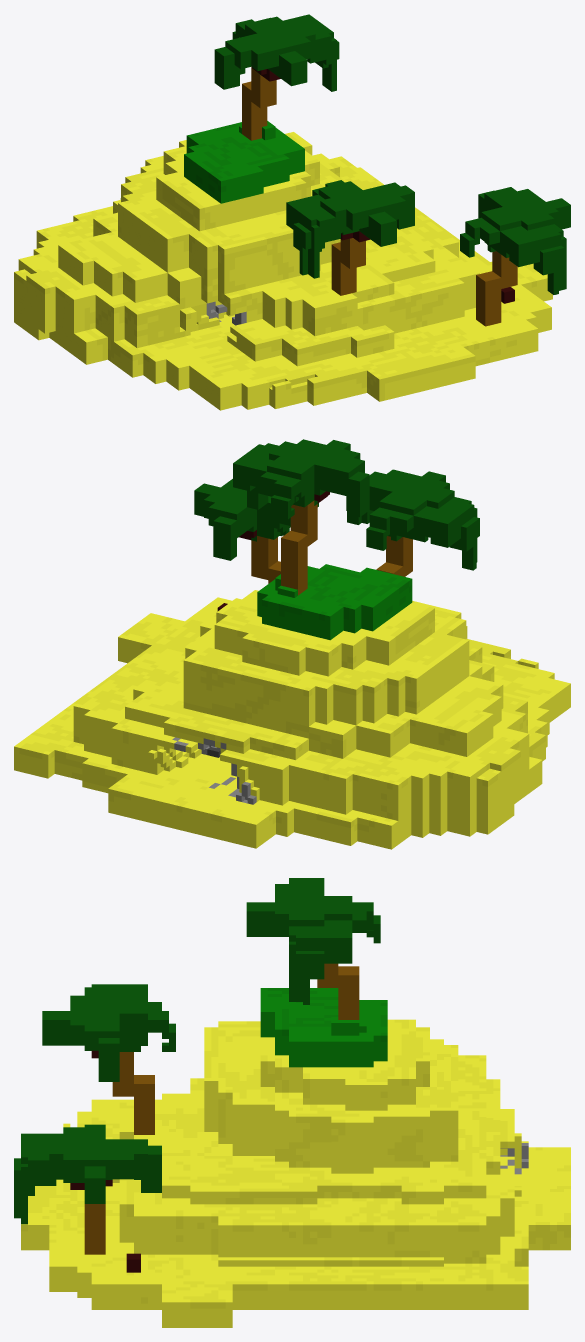
File: Island größer.obj
The picture shows the model from 3 angles, top to bottom: view 1: azimuth 30°, elevation 25°; view 2: azimuth 150°, elevation 25°; view 3: azimuth 270°, elevation 25°; orthographic projection. The views are drawn at different scales.
Size of the model in its own units: 8 by 4.8 by 7.9.
1 material, 1 textured.
